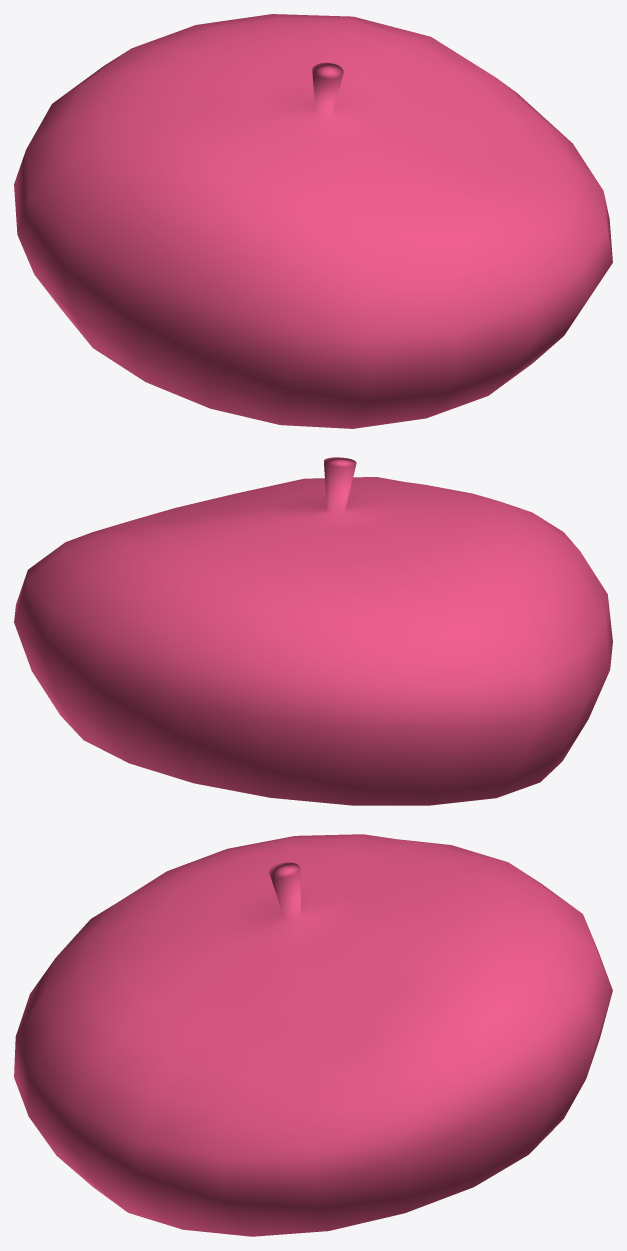
File: Beret_Pink.fbx
The picture shows the model from 3 angles, top to bottom: view 1: azimuth 30°, elevation 25°; view 2: azimuth 150°, elevation 25°; view 3: azimuth 270°, elevation 25°; orthographic projection. The views are drawn at different scales.
Visible parts, largest first — view 1: beret_pink; view 2: beret_pink; view 3: beret_pink.
Part boxes in pixels (x1=…): beret_pink: x1=14, y1=14, x2=612, y2=428; beret_pink: x1=14, y1=457, x2=612, y2=805; beret_pink: x1=14, y1=834, x2=612, y2=1236.
Bounding box in the file's own units: 64.55 × 33.08 × 62.68.
1 material, 1 textured.
